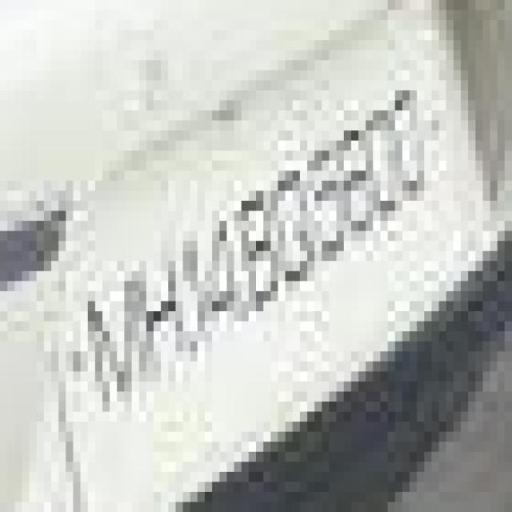number plate: (14, 110, 512, 402)
